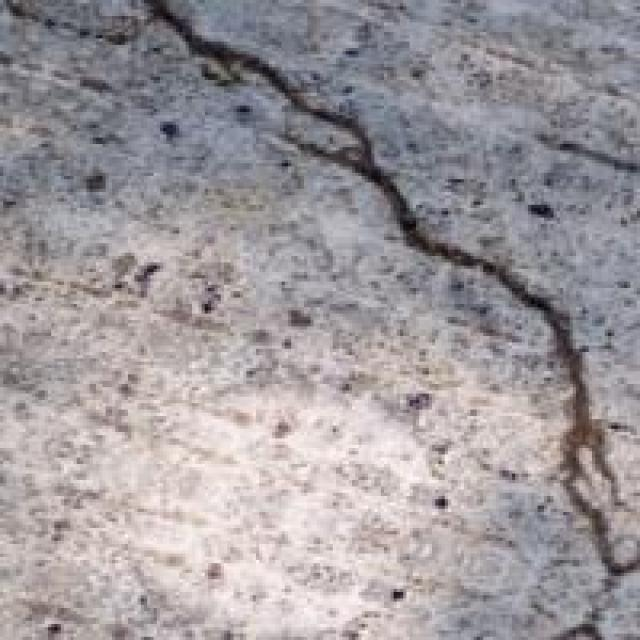Crack: (150, 6, 636, 636)
